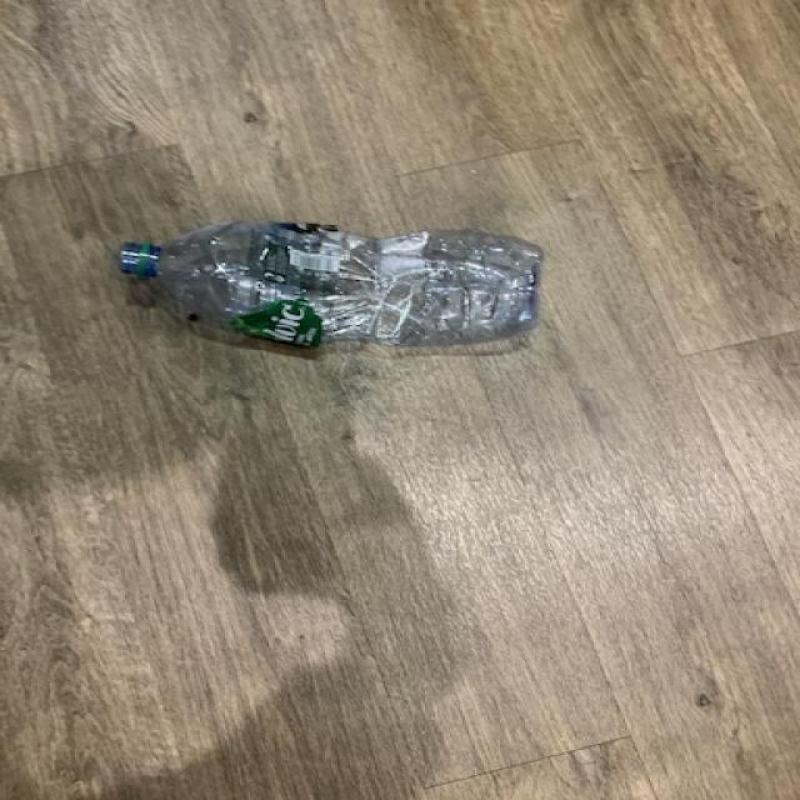botella: (119, 220, 545, 348)
